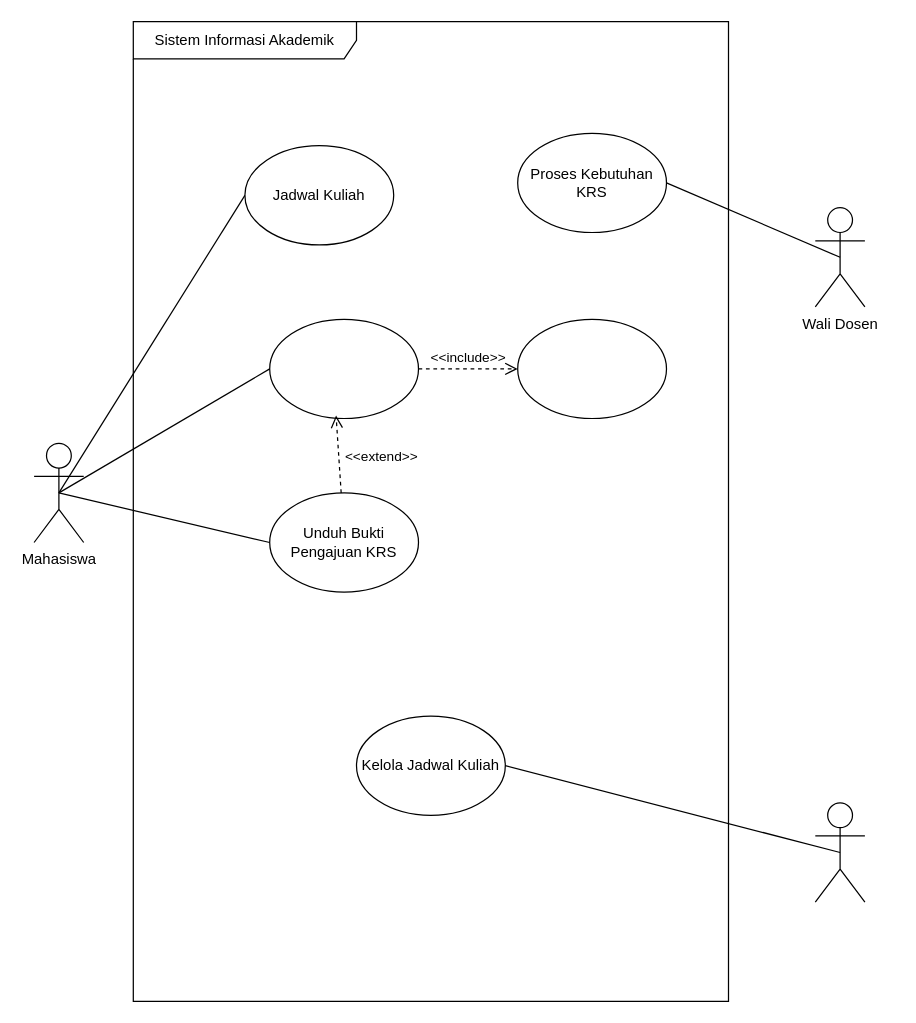
This 916x1023 diagram has some shape labels left out. Here are the shapes that lost their labels. From the top down, the box of each, then its label:
(268, 318, 418, 418): Ajukan KRS
(516, 318, 666, 418): Validasi KRS
(814, 802, 865, 902): Admin Akademik
